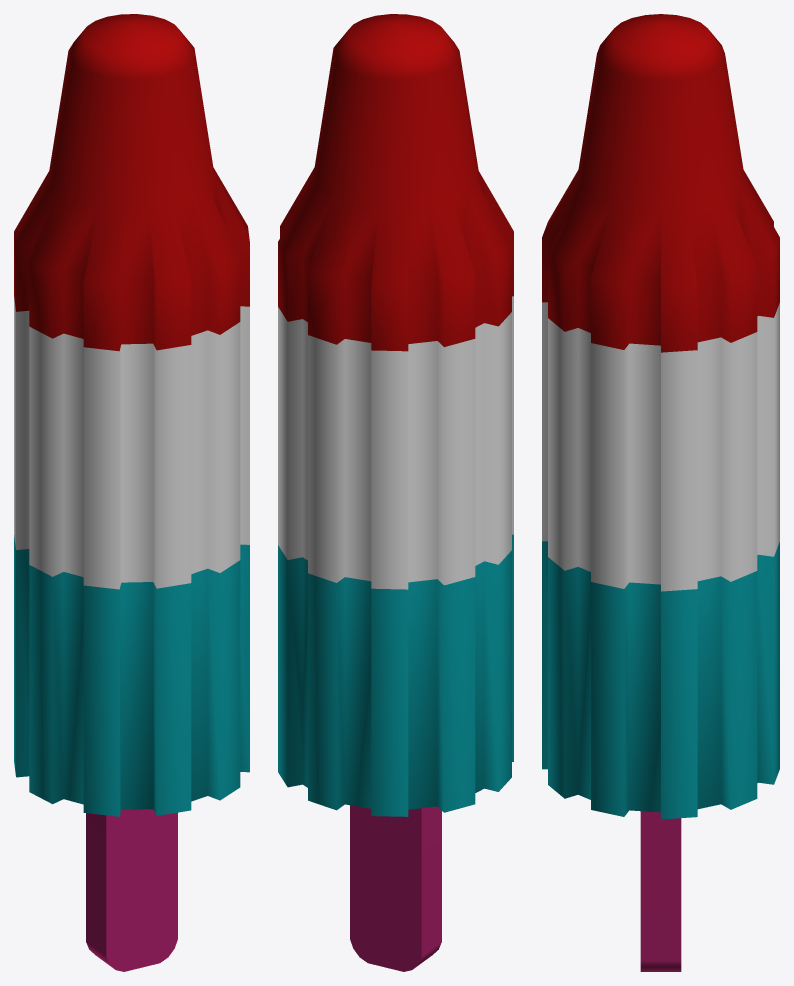
File: rocketPop.fbx
The picture shows the model from 3 angles, left to right: view 1: azimuth 30°, elevation 25°; view 2: azimuth 150°, elevation 25°; view 3: azimuth 270°, elevation 25°; orthographic projection.
Visible parts, largest first — view 1: pCube5; view 2: pCube5; view 3: pCube5.
Boxes of the visible parts, x1,y1,x2,y2 form: pCube5: (14, 14, 249, 971); pCube5: (278, 14, 513, 971); pCube5: (542, 14, 779, 971).
Size of the model in its own units: 1.15 by 5.03 by 1.15.
